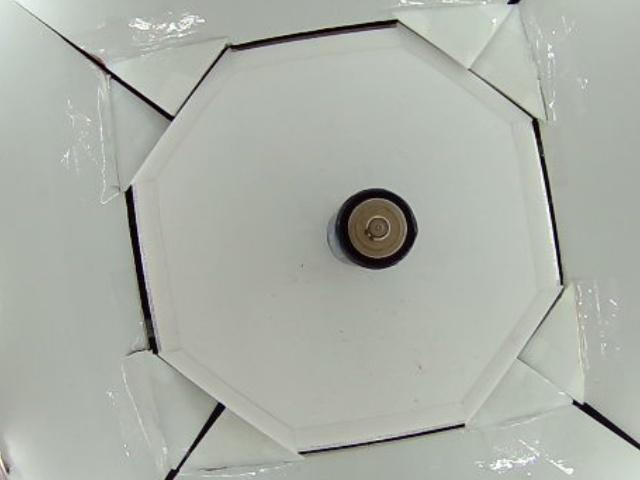Battery: (326, 190, 420, 270)
